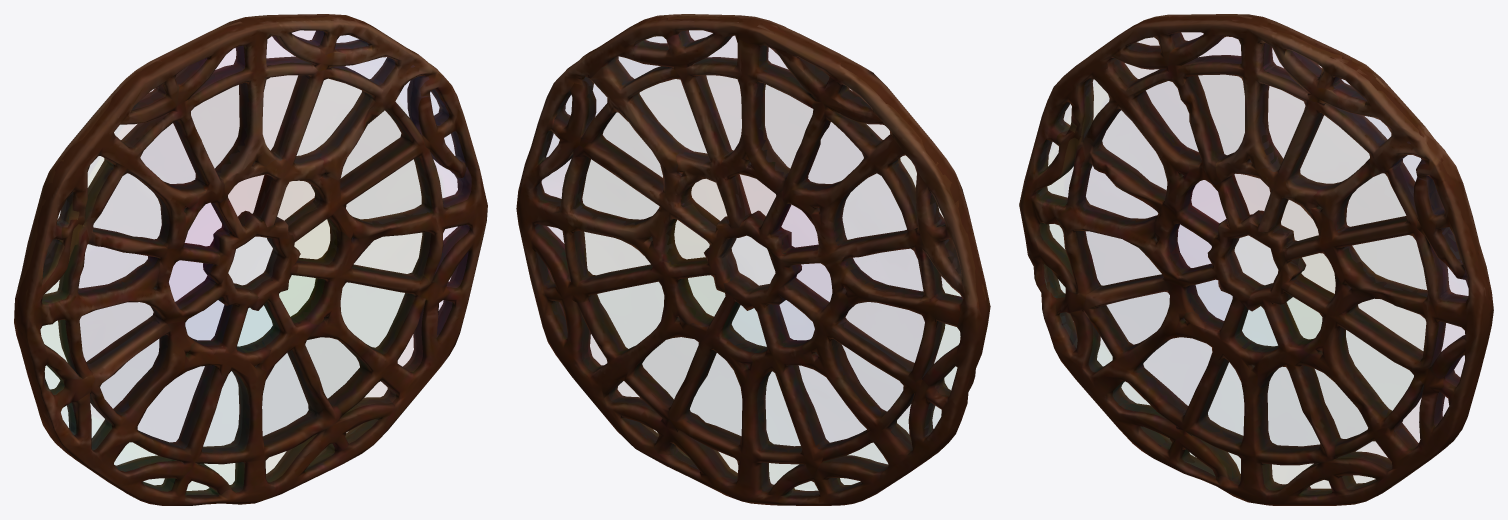
Rendered from dome_window_stained_glass.glb.
3 renders of one model, left to right at view 1: azimuth 30°, elevation 25°; view 2: azimuth 150°, elevation 25°; view 3: azimuth 330°, elevation 25°, orthographic.
Visible parts, largest first — view 1: karm2, glass1; view 2: karm2, glass1; view 3: karm2, glass1.
Boxes of the visible parts, <box> form: karm2: <box>14,14,487,505</box>; glass1: <box>41,31,462,494</box>; karm2: <box>516,14,990,505</box>; glass1: <box>541,31,960,495</box>; karm2: <box>1019,14,1493,505</box>; glass1: <box>1045,33,1467,490</box>.
Size of the model in its own units: 62.04 by 61.29 by 4.32.
2 materials, 2 textured.
